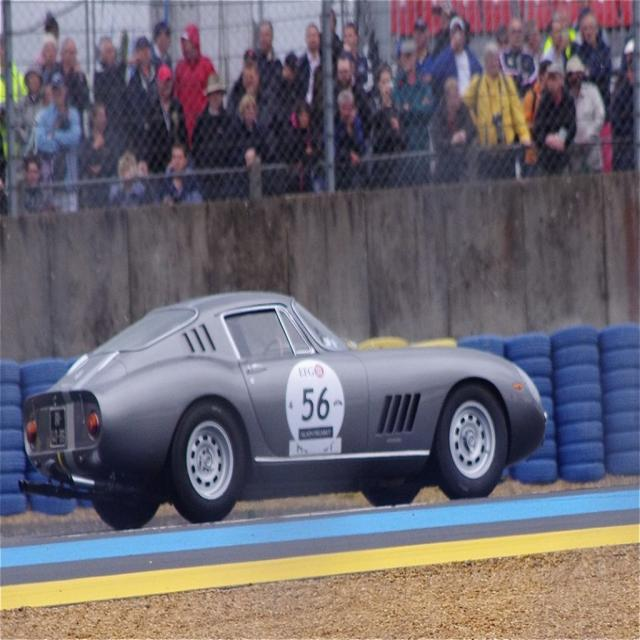car: (19, 287, 550, 526)
